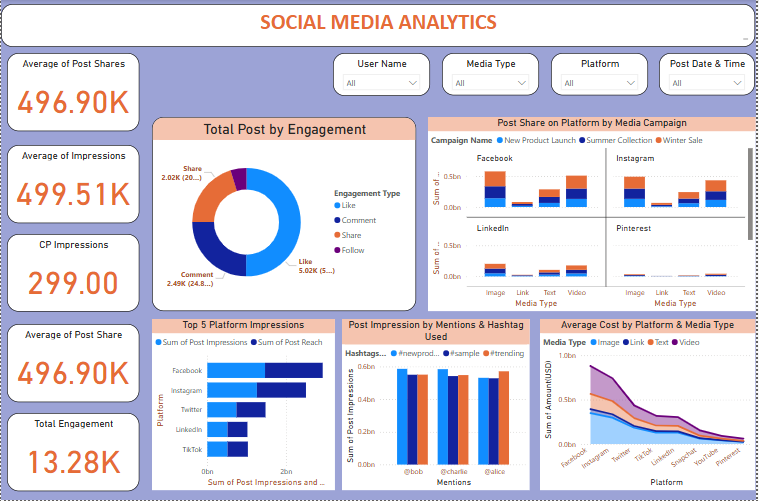

The page's visual inventory and layout, read from the dashboard file:
{"tool":"powerbi","page":{"name":"Page 1","canvas":[1282,850],"ordinal":0},"visuals":[{"type":"textbox","title":"SOCIAL MEDIA ANALYTICS","box":[0,6.6,1282,72.8],"z":0},{"type":"card","title":"Average of Post Shares","fields":{"Values":["Avg(Table1_2.Post Shares)"]},"box":[11,90.5,225.1,132.6],"z":1000},{"type":"card","title":"Average of Impressions","fields":{"Values":["Avg(Table1_2.Post Impressions)"]},"box":[11,245.9,225.1,132.6],"z":2000},{"type":"card","title":"CP Impressions","fields":{"Values":["Table1_2.CP Impression"]},"box":[11,397,225.1,132.2],"z":3000},{"type":"slicer","title":"User Name","fields":{"Values":["Table1_2.User Name"]},"box":[564.9,90.5,165.2,72.7],"z":4000},{"type":"card","title":"Total Engagement","fields":{"Values":["Avg(Table1_2.Engagement Count)"]},"box":[11,701.5,225.1,132.6],"z":5000},{"type":"slicer","title":"Media Type","fields":{"Values":["Table1_2.Media Type"]},"box":[749.8,90.6,165,72],"z":6000},{"type":"slicer","title":"Platform","fields":{"Values":["Table1_2.Platform"]},"box":[934.5,90.6,165,72],"z":7000},{"type":"slicer","title":"Post Date & Time","fields":{"Values":["Table1_2.Post Date & Time"]},"box":[1119,90.6,163,72],"z":8000},{"type":"card","title":"Average of Post Share","fields":{"Values":["Avg(Table1_2.Post Shares)"]},"box":[11,550.4,225.1,132.6],"z":9000},{"type":"donutChart","title":"Total Post by Engagement","fields":{"Y":["CountNonNull(Table1_2.Record ID)"],"Category":["Table1_2.Engagement Type"]},"box":[256,198.6,449.4,330.5],"z":10000},{"type":"lineStackedColumnComboChart","title":"Post Share on Platform by Media Campaign","fields":{"Category":["Table1_2.Media Type"],"Y":["Sum(Table1_2.Post Shares)"],"Series":["Table1_2.Campaign Name"],"Rows":["Table1_2.Platform"]},"box":[725.2,198.6,557.4,330.5],"z":11000},{"type":"barChart","title":"Top 5 Platform Impressions","fields":{"Category":["Table1_2.Platform"],"Y":["Sum(Table1_2.Post Impressions)","Sum(Table1_2.Post Reach)"]},"box":[256,542.3,310.6,290.8],"z":12000},{"type":"clusteredColumnChart","title":"Post Impression by Mentions & Hashtag Used","fields":{"Category":["Table1_2.Mentions"],"Y":["Sum(Table1_2.Post Impressions)"],"Series":["Table1_2.Hashtags Used"]},"box":[579.8,542.3,319.4,290.8],"z":13000},{"type":"stackedAreaChart","title":"Average Cost by Platform & Media Type","fields":{"Category":["Table1_2.Platform"],"Y":["Sum(Table1_2.Amount(USD))"],"Series":["Table1_2.Media Type"]},"box":[916.9,542.3,365.7,290.8],"z":14000}]}

Visuals, with their boxes in screenshot pixels (x1, y1, x2, y2), scaled from the page's 1282x850 canvas onto the 759x501 screenshot:
"SOCIAL MEDIA ANALYTICS" textbox: pyautogui.locateOnScreen(0, 4, 758, 47)
"Average of Post Shares" card: pyautogui.locateOnScreen(7, 53, 140, 131)
"Average of Impressions" card: pyautogui.locateOnScreen(7, 145, 140, 223)
"CP Impressions" card: pyautogui.locateOnScreen(7, 234, 140, 312)
"User Name" slicer: pyautogui.locateOnScreen(334, 53, 432, 96)
"Total Engagement" card: pyautogui.locateOnScreen(7, 413, 140, 492)
"Media Type" slicer: pyautogui.locateOnScreen(444, 53, 542, 96)
"Platform" slicer: pyautogui.locateOnScreen(553, 53, 651, 96)
"Post Date & Time" slicer: pyautogui.locateOnScreen(662, 53, 758, 96)
"Average of Post Share" card: pyautogui.locateOnScreen(7, 324, 140, 403)
"Total Post by Engagement" donutChart: pyautogui.locateOnScreen(152, 117, 418, 312)
"Post Share on Platform by Media Campaign" lineStackedColumnComboChart: pyautogui.locateOnScreen(429, 117, 758, 312)
"Top 5 Platform Impressions" barChart: pyautogui.locateOnScreen(152, 320, 335, 491)
"Post Impression by Mentions & Hashtag Used" clusteredColumnChart: pyautogui.locateOnScreen(343, 320, 532, 491)
"Average Cost by Platform & Media Type" stackedAreaChart: pyautogui.locateOnScreen(543, 320, 758, 491)
